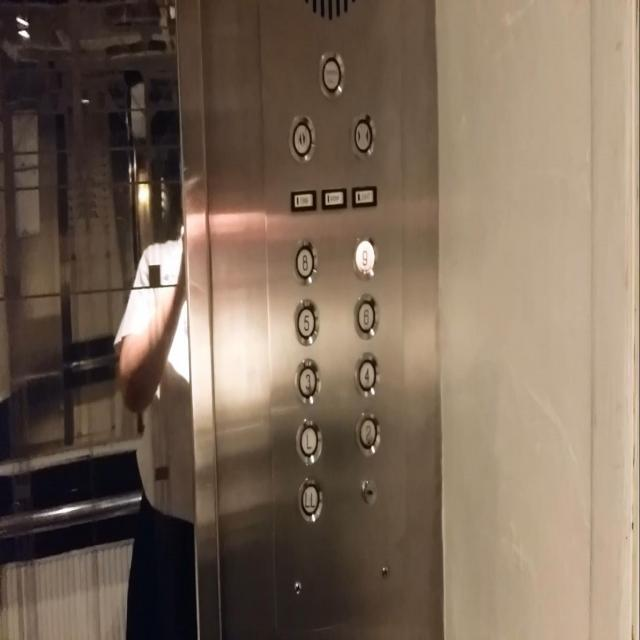2: (354, 412, 380, 456)
3: (294, 356, 322, 406)
4: (353, 350, 380, 397)
5: (293, 296, 319, 346)
6: (352, 292, 380, 340)
8: (292, 238, 318, 284)
9: (352, 236, 378, 280)
L: (296, 418, 322, 463)
LL: (297, 477, 323, 523)
blur: (290, 188, 317, 212), (352, 184, 378, 208), (321, 186, 347, 209)
close: (350, 112, 376, 160)
keyhole: (361, 478, 377, 508)
open: (288, 114, 315, 162)
text_blur: (318, 50, 344, 98)
